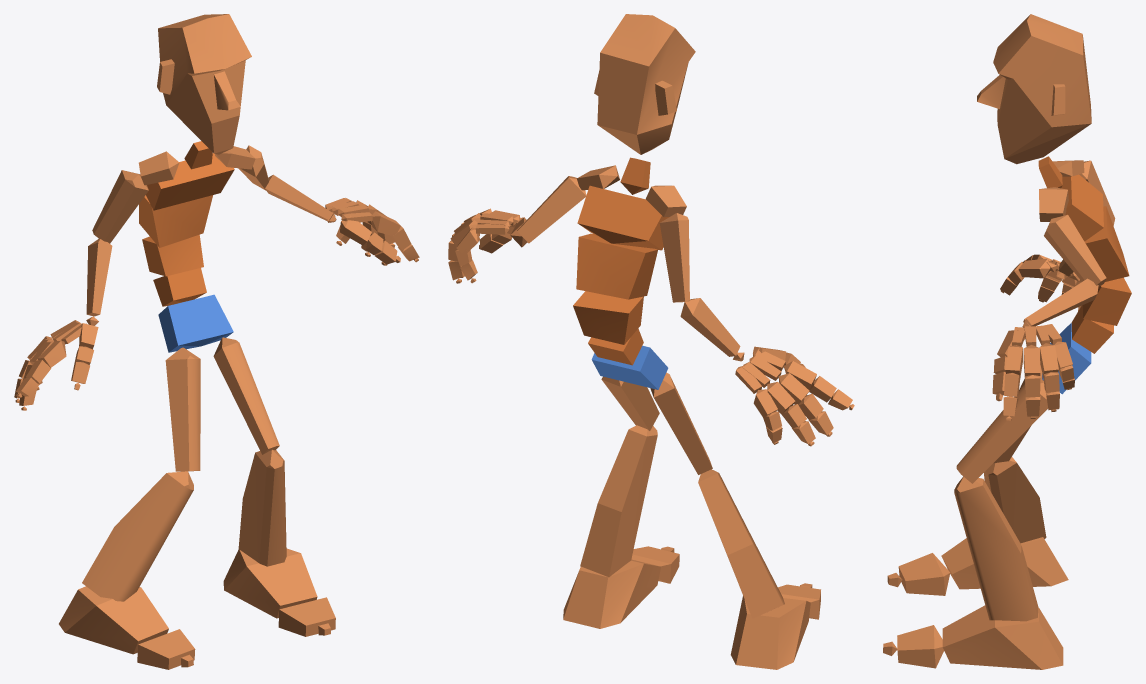
File: prueba191.obj
3 renders of one model, left to right at view 1: azimuth 30°, elevation 25°; view 2: azimuth 150°, elevation 25°; view 3: azimuth 270°, elevation 25°, orthographic. The views are drawn at different scales.
Visible parts, largest first — view 1: BOPED_Head, BOPED_R_leg, BOPED_R_foot, BOPED_L_leg, BOPED_R_foot01, BOPED_R_legup, BOPED_L_legup, Bone01, Bone05, Bone04, BOPED_R_arm_upper, Bone03 (+8 smaller); view 2: BOPED_Head, BOPED_L_leg, BOPED_R_leg, BOPED_R_foot01, BOPED_R_foot, Bone04, Bone05, Bone03, BOPED_R_legup, BOPED_R_arm_upper, Bone01, BOPED_L_arm_upper (+8 smaller); view 3: BOPED_Head, BOPED_L_leg, BOPED_R_foot01, BOPED_R_leg, BOPED_L_legup, BOPED_R_foot, BOPED_L_arm_upper, Bone05, BOPED_R_foot_toe01, BOPED_R_foot_toe04, Bone04, Bone03 (+11 smaller).
Part boxes in pixels (left/top/right/bottom): BOPED_Head: left=157, top=14, right=251, bottom=154; BOPED_R_leg: left=82, top=471, right=193, bottom=601; BOPED_R_foot: left=59, top=586, right=168, bottom=654; BOPED_L_leg: left=238, top=449, right=286, bottom=566; BOPED_R_foot01: left=223, top=548, right=317, bottom=618; BOPED_R_legup: left=165, top=347, right=200, bottom=471; BOPED_L_legup: left=213, top=337, right=279, bottom=454; Bone01: left=158, top=294, right=233, bottom=352; Bone05: left=146, top=153, right=234, bottom=210; Bone04: left=139, top=195, right=212, bottom=247; BOPED_R_arm_upper: left=92, top=170, right=148, bottom=243; Bone03: left=142, top=234, right=203, bottom=276; BOPED_Head: left=594, top=14, right=695, bottom=154; BOPED_L_leg: left=580, top=425, right=657, bottom=577; BOPED_R_leg: left=698, top=469, right=784, bottom=618; BOPED_R_foot01: left=563, top=559, right=660, bottom=628; BOPED_R_foot: left=730, top=596, right=810, bottom=669; Bone04: left=576, top=233, right=657, bottom=299; Bone05: left=577, top=185, right=669, bottom=250; Bone03: left=573, top=291, right=643, bottom=344; BOPED_R_legup: left=650, top=372, right=712, bottom=474; BOPED_R_arm_upper: left=659, top=213, right=689, bottom=302; Bone01: left=591, top=345, right=668, bottom=389; BOPED_L_arm_upper: left=517, top=176, right=586, bottom=243; BOPED_Head: left=977, top=14, right=1091, bottom=164; BOPED_L_leg: left=954, top=476, right=1038, bottom=621; BOPED_R_foot01: left=942, top=605, right=1063, bottom=669; BOPED_R_leg: left=984, top=457, right=1046, bottom=543; BOPED_L_legup: left=956, top=380, right=1047, bottom=483; BOPED_R_foot: left=941, top=537, right=1068, bottom=589; BOPED_L_arm_upper: left=1044, top=214, right=1106, bottom=286; Bone05: left=1061, top=174, right=1103, bottom=241; BOPED_R_foot_toe01: left=898, top=553, right=950, bottom=595; BOPED_R_foot_toe04: left=897, top=625, right=944, bottom=668; Bone04: left=1084, top=206, right=1129, bottom=281; Bone03: left=1083, top=277, right=1131, bottom=325.
Size of the model in its own units: 130 by 184 by 68.17.
